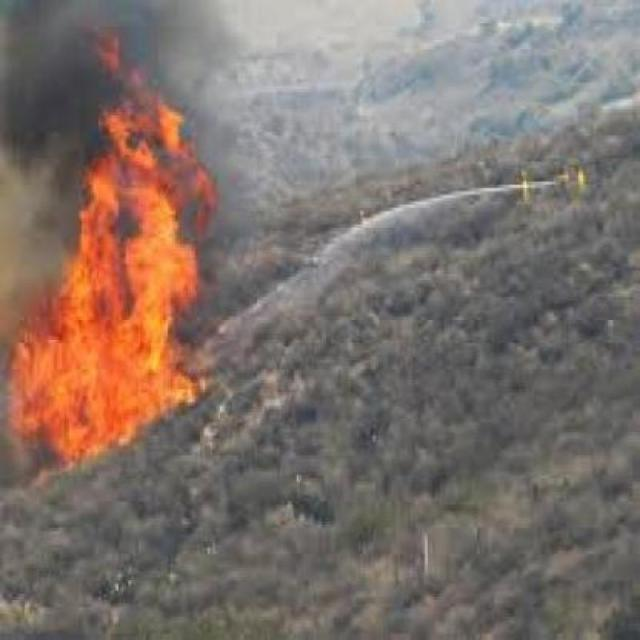Fire: (76, 0, 192, 477)
Smoke: (6, 0, 89, 218)
